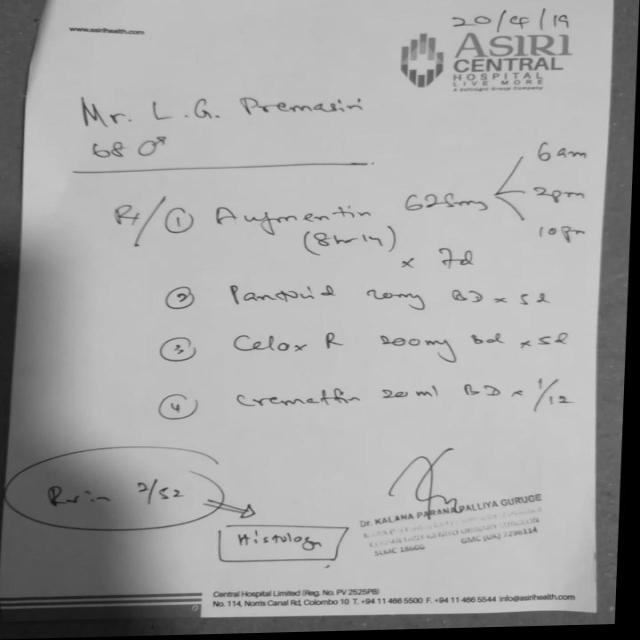Prescription: (208, 191, 497, 281), (229, 324, 575, 366), (232, 382, 577, 424), (221, 279, 552, 318)
